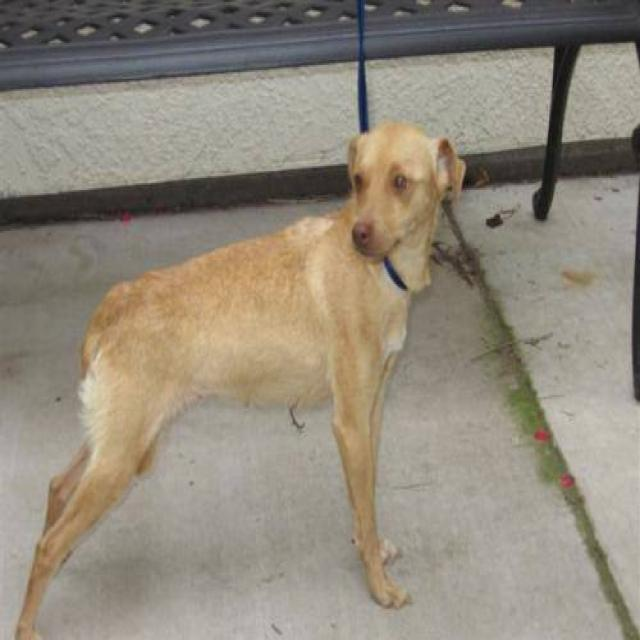dog: (12, 116, 467, 638)
